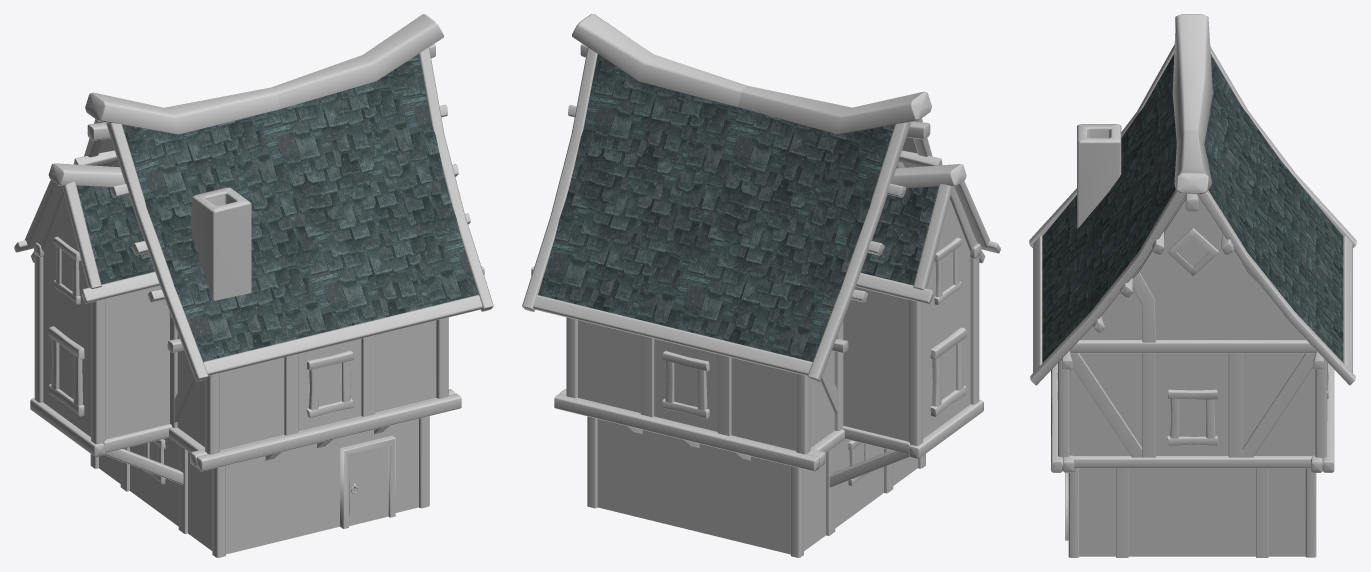
The model's file is house25.fbx.
3 renders of one model, left to right at view 1: azimuth 30°, elevation 25°; view 2: azimuth 150°, elevation 25°; view 3: azimuth 270°, elevation 25°, orthographic. The views are drawn at different scales.
Visible parts, largest first — view 1: house25; view 2: house25; view 3: house25.
Part boxes in pixels (<box>): house25: <box>14,14,493,557</box>; house25: <box>522,14,1000,557</box>; house25: <box>1029,14,1356,557</box>.
Bounding box in the file's own units: 1190 × 1258 × 896.
